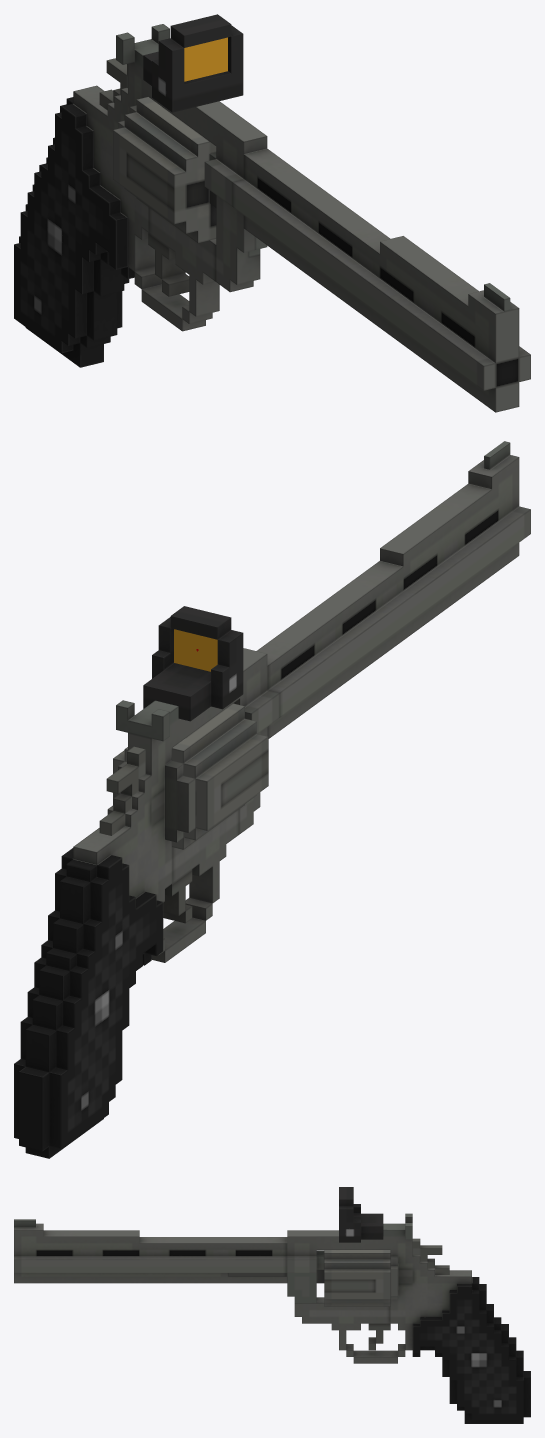
File: RD_ANACONDA.glb
3 renders of one model, top to bottom at view 1: azimuth 30°, elevation 25°; view 2: azimuth 150°, elevation 25°; view 3: azimuth 270°, elevation 25°, orthographic. The views are drawn at different scales.
Parts seen in each view (by area): view 1: ANACONDA, ANACONDA_CLIP_P1, SCOPE_TRIJICON, ANACONDA_TRIGGER; view 2: ANACONDA, SCOPE_TRIJICON, ANACONDA_CLIP_P1, ANACONDA_TRIGGER; view 3: ANACONDA, ANACONDA_CLIP_P1, SCOPE_TRIJICON, ANACONDA_CLIP_P2, ANACONDA_TRIGGER.
Part boxes in pixels (x1,y1,x2,y2): ANACONDA: (14, 24, 530, 412); ANACONDA_CLIP_P1: (113, 97, 216, 242); SCOPE_TRIJICON: (143, 14, 243, 112); ANACONDA_TRIGGER: (99, 58, 127, 110); ANACONDA: (14, 441, 530, 1158); SCOPE_TRIJICON: (143, 606, 243, 721); ANACONDA_CLIP_P1: (113, 703, 268, 849); ANACONDA_TRIGGER: (99, 746, 145, 835); ANACONDA: (14, 1213, 530, 1423); ANACONDA_CLIP_P1: (316, 1250, 390, 1306); SCOPE_TRIJICON: (339, 1187, 383, 1242); ANACONDA_CLIP_P2: (228, 1273, 316, 1303); ANACONDA_TRIGGER: (412, 1238, 449, 1274).
Size of the model in its own units: 0.0787 by 0.3346 by 0.689.
Materials: 3 (3 with a texture image).
